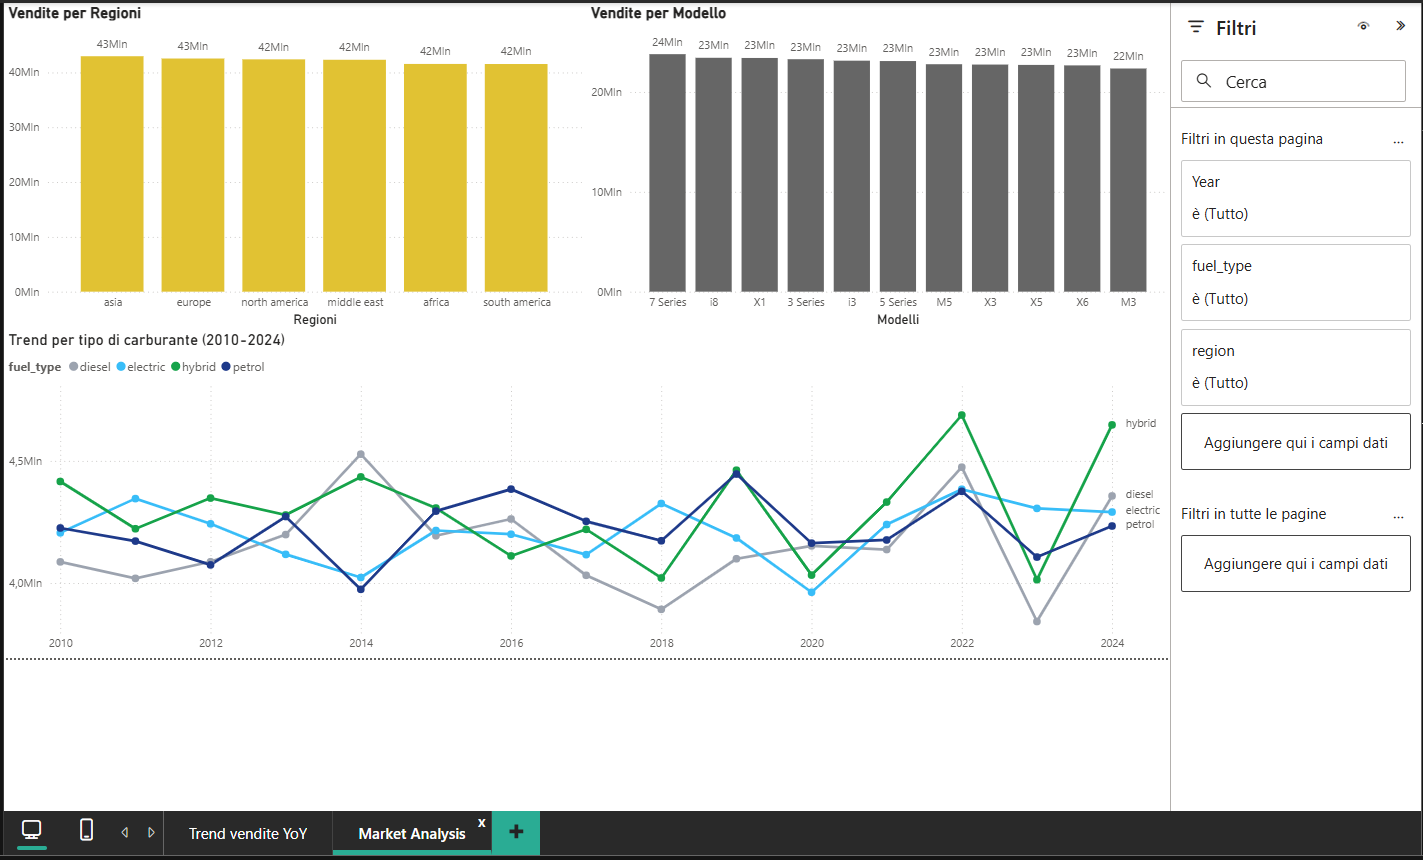

The page's visual inventory and layout, read from the dashboard file:
{"tool":"powerbi","page":{"name":"Market Analysis","canvas":[1280,720],"ordinal":1},"visuals":[{"type":"clusteredColumnChart","title":"Vendite per Regioni","fields":{"Category":["bmw_sales_clean.region"],"Y":["Years.Total Sales"]},"box":[0,0,639.5,360.9],"z":0},{"type":"clusteredColumnChart","title":"Vendite per Modello","fields":{"Category":["bmw_sales_clean.model"],"Y":["Years.Total Sales"]},"box":[639.5,0,640.8,360.9],"z":1000},{"type":"lineChart","title":"Trend per tipo di carburante (2010-2024)","fields":{"Series":["bmw_sales_clean.fuel_type"],"Y":["Years.Total Sales"],"Category":["Years.Year"]},"box":[0,359.5,1280.3,360.9],"z":2000}]}

Visuals, with their boxes on the page's 1280x720 design canvas (x1, y1, x2, y2). These are canvas units, not pixel positions in the 1423x860 screenshot, which may show the page scaled, cropped or inside an application window:
"Vendite per Regioni" clusteredColumnChart: x1=0, y1=0, x2=640, y2=361
"Vendite per Modello" clusteredColumnChart: x1=640, y1=0, x2=1280, y2=361
"Trend per tipo di carburante (2010-2024)" lineChart: x1=0, y1=360, x2=1280, y2=720
